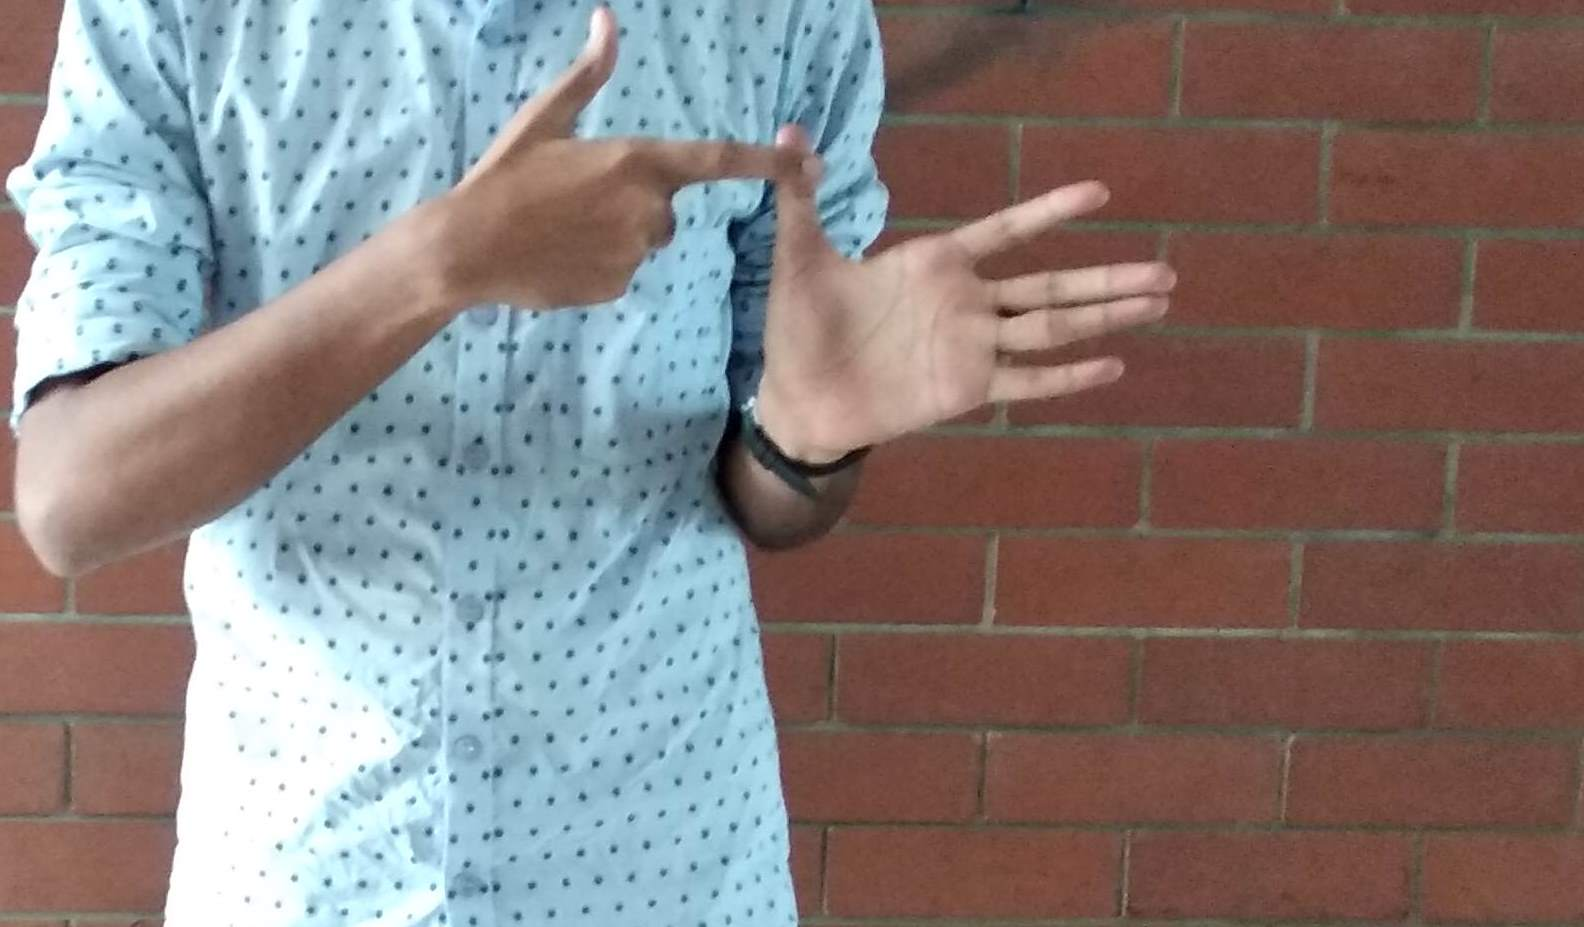a: (535, 22, 1167, 401)
